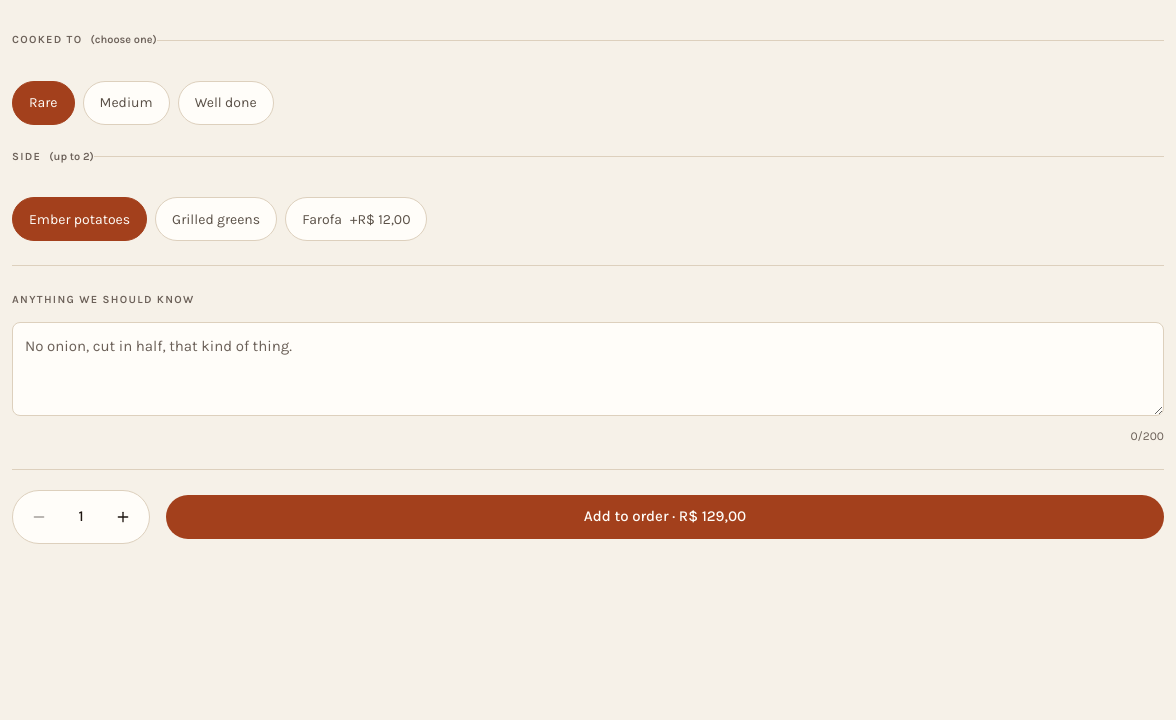
Test: ProductCustomizer › explains what is missing instead of failing silently
The image size is (1176, 720).
Note: Deselect the required side, leaving the group below its minimum.
Click the button "Ember potatoes": (80, 219) [12,197,147,241]
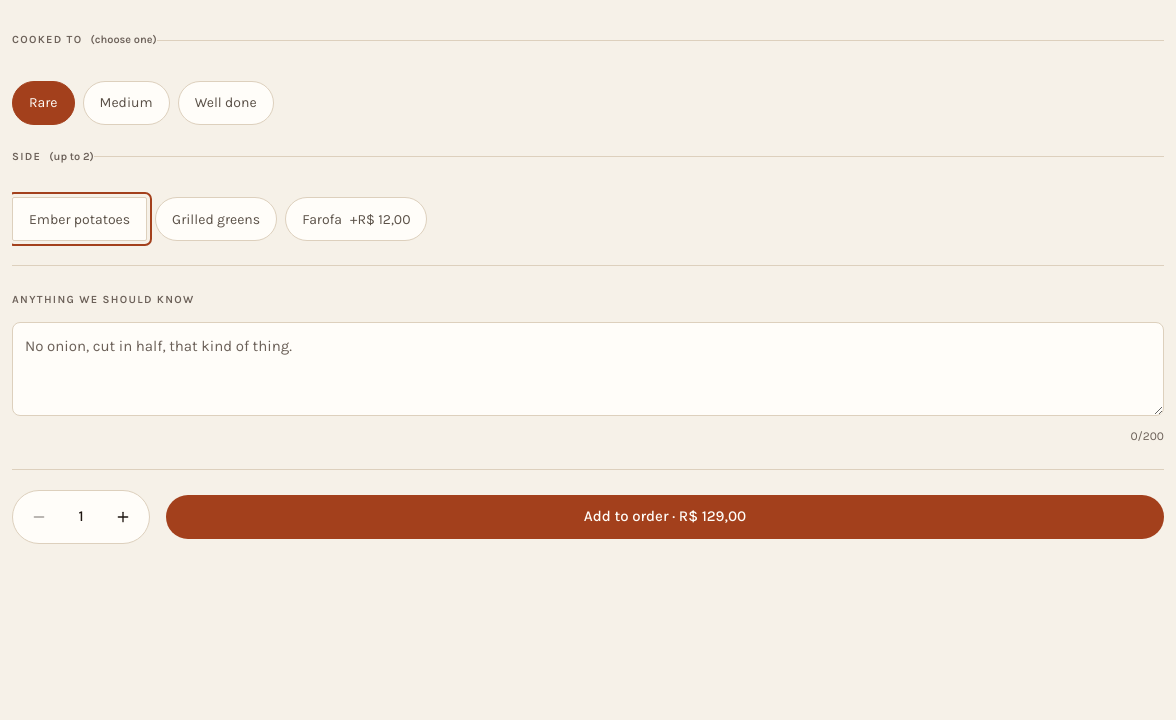
Click the button "Add to order · R$ 129,00": (665, 516) [166,494,1164,538]
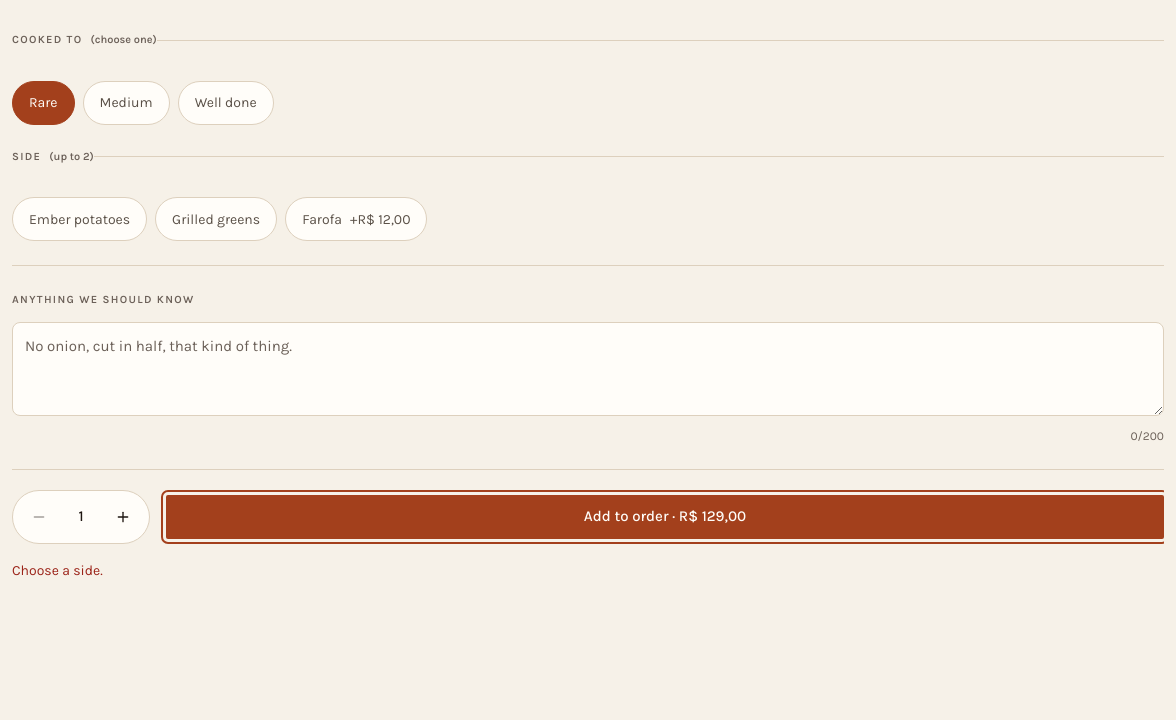
Now the message shows "side", box [12,562,103,578]
